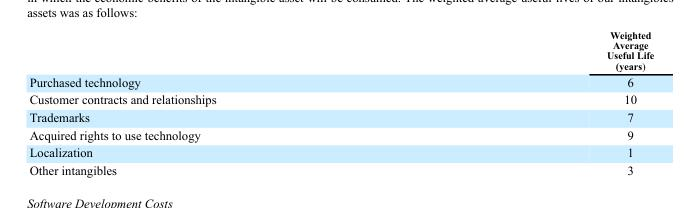table: (28, 29, 653, 176)
table column: (28, 29, 410, 176), (410, 29, 653, 176)
table column header: (28, 29, 653, 72)
table row: (28, 29, 653, 72), (28, 72, 653, 90), (28, 107, 653, 125), (28, 125, 653, 143), (28, 90, 653, 107), (28, 143, 653, 160), (28, 160, 653, 176)
